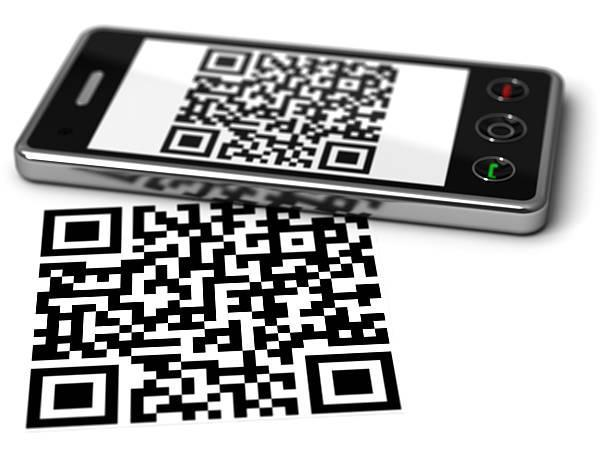Finder pattern: (300, 350, 404, 415), (25, 364, 124, 431), (36, 206, 127, 258), (155, 124, 222, 161), (316, 140, 380, 177), (194, 46, 256, 77)
